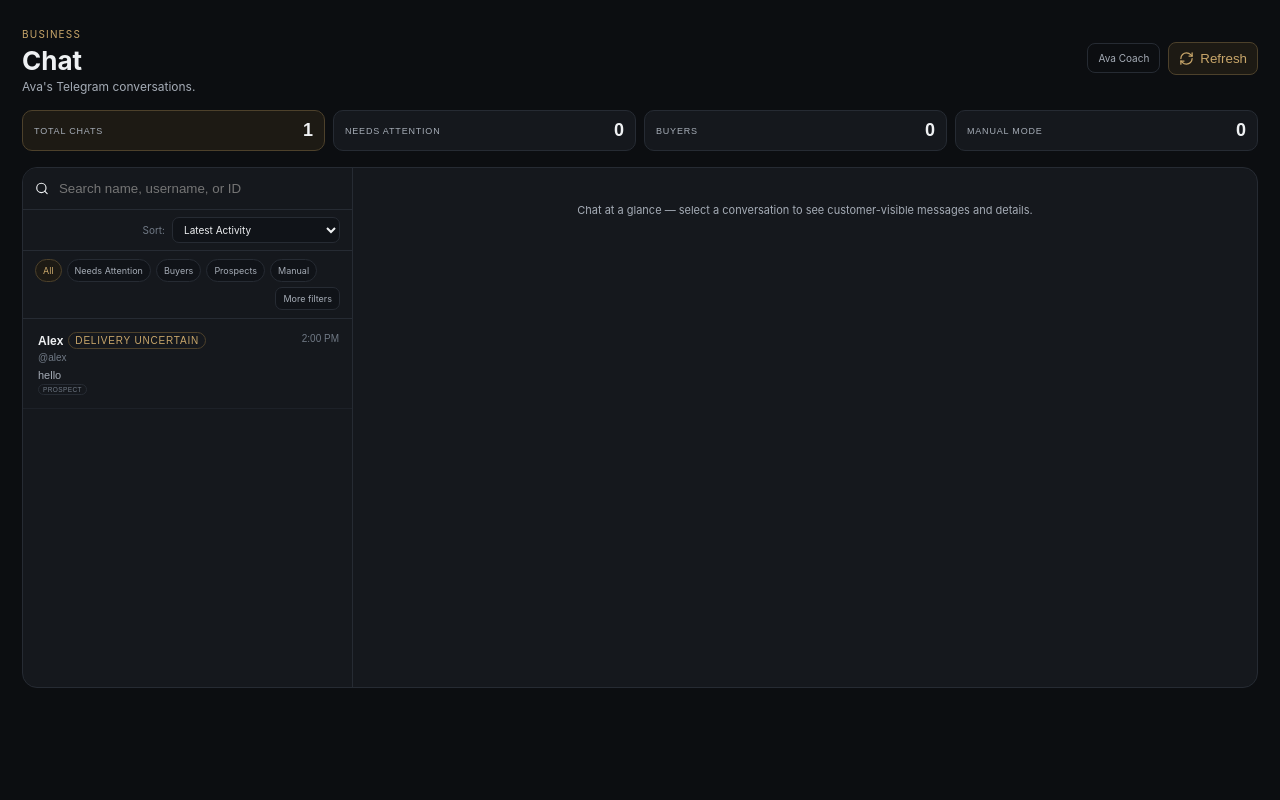
badge click confirms; cancel does not write
Click the button with aria-label "Dismiss Delivery Uncertain warning". click: (137, 340)
box: [68,332,206,349]
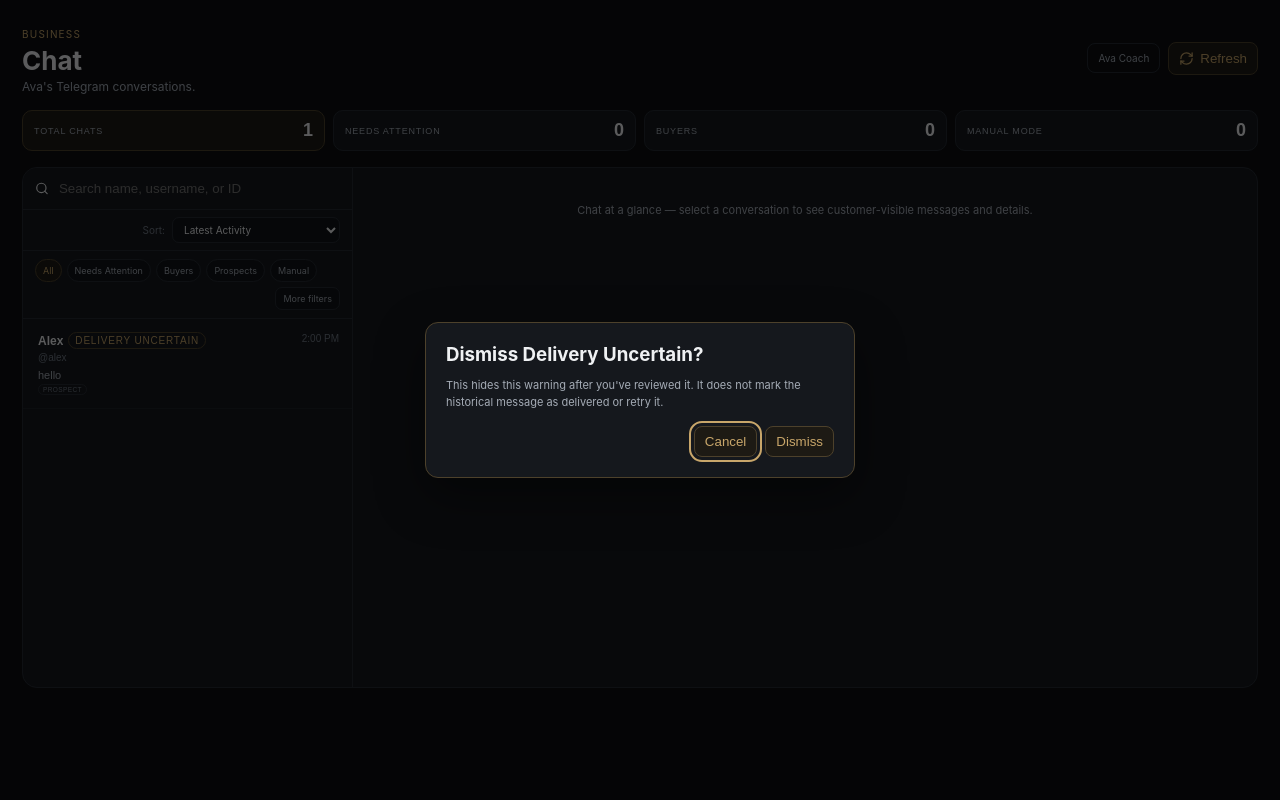
expect the dialog "Dismiss Delivery Uncertain?" is shown: met
Click the button "Cancel". click: (726, 442)
box: [694,426,757,457]
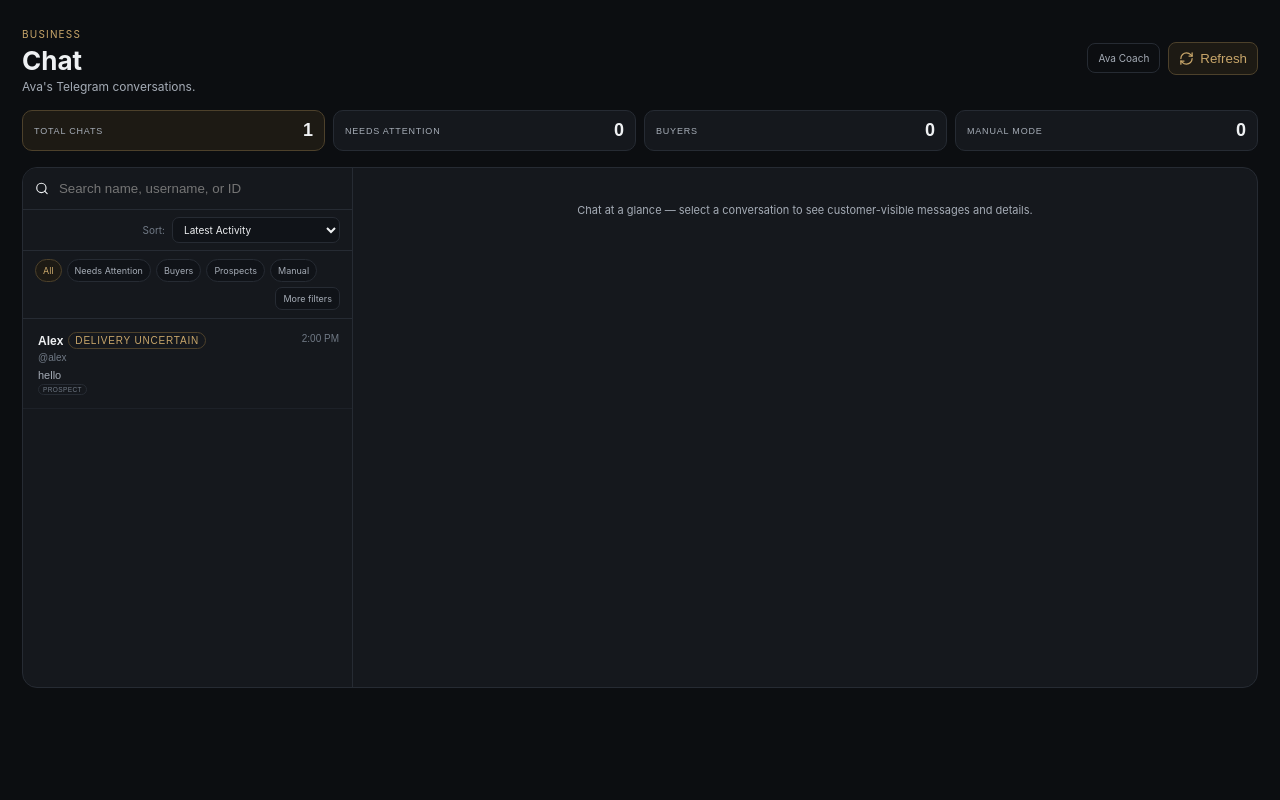
expect the dialog is gone: met
